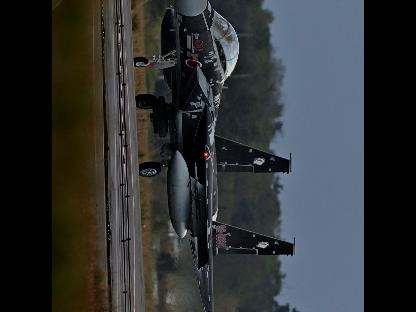F117: (134, 0, 297, 311)
